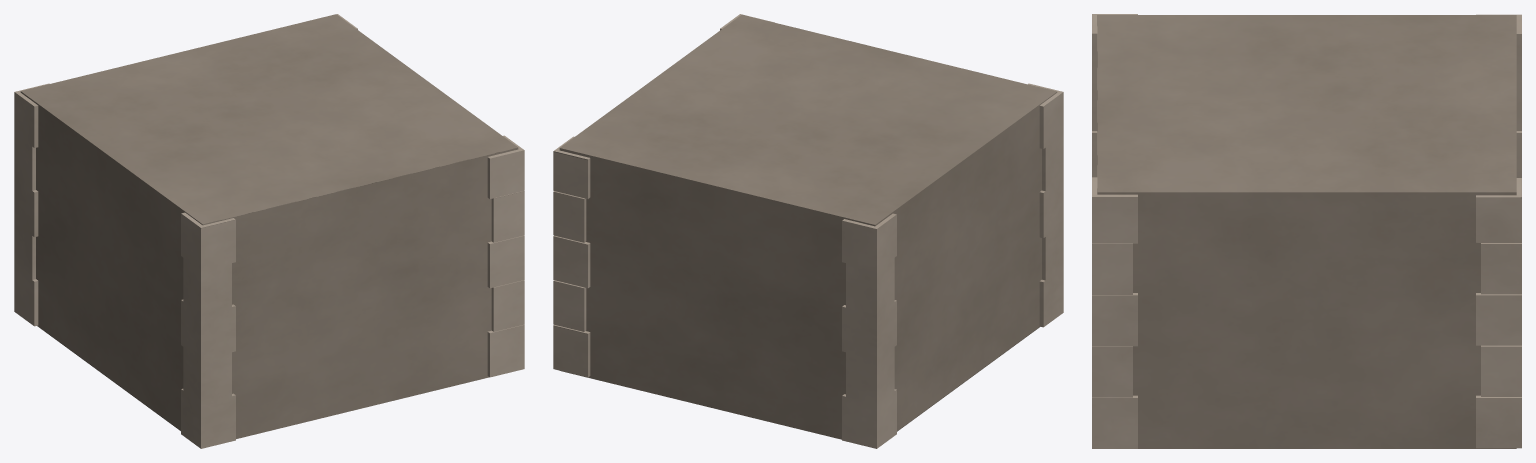
File: med_plinth_b.glb
The picture shows the model from 3 angles, left to right: view 1: azimuth 30°, elevation 25°; view 2: azimuth 150°, elevation 25°; view 3: azimuth 270°, elevation 25°; orthographic projection. The views are drawn at different scales.
Visible parts, largest first — view 1: med_plinth_b; view 2: med_plinth_b; view 3: med_plinth_b.
Part boxes in pixels (box(x1,y1,x2,y2)): med_plinth_b: box(14, 14, 524, 448); med_plinth_b: box(553, 14, 1063, 448); med_plinth_b: box(1092, 14, 1521, 448).
Size of the model in its own units: 4.1 by 2.7 by 4.1.
1 material, 1 textured.
